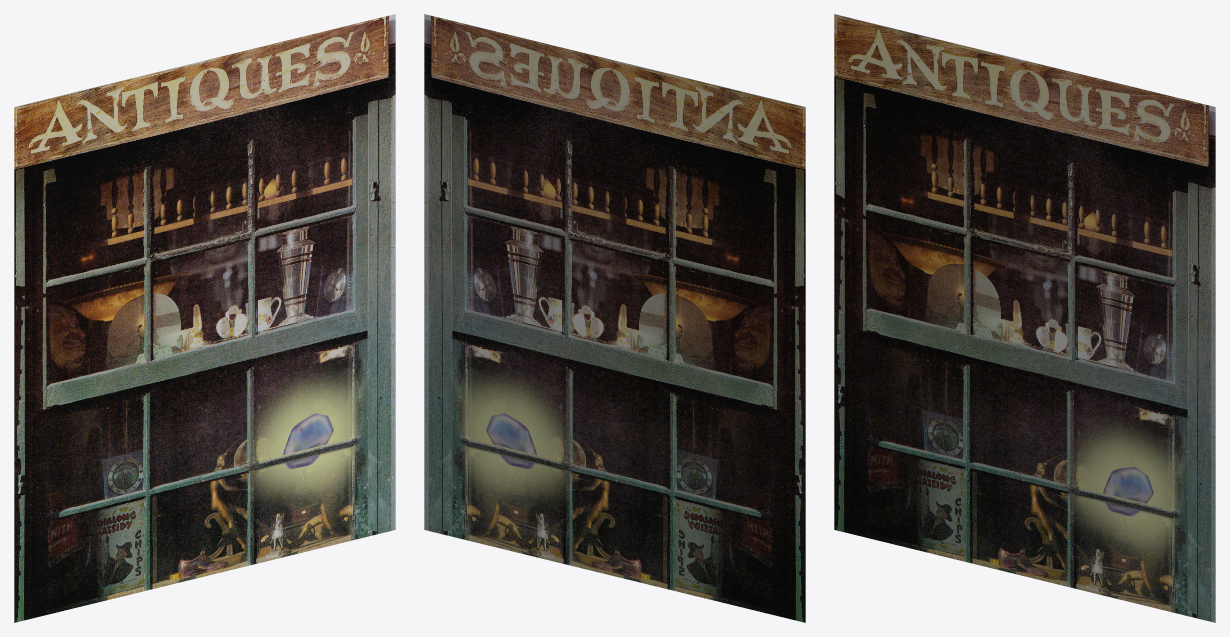
The model's file is antique.fbx.
The picture shows the model from 3 angles, left to right: view 1: azimuth 30°, elevation 25°; view 2: azimuth 150°, elevation 25°; view 3: azimuth 330°, elevation 25°; orthographic projection.
Visible parts, largest first — view 1: Plane001; view 2: Plane001; view 3: Plane001.
Part boxes in pixels (bbox=[...]): Plane001: bbox=[14, 14, 395, 622]; Plane001: bbox=[424, 14, 805, 622]; Plane001: bbox=[834, 14, 1215, 622].
Bounding box in the file's own units: 320 × 6.73e-05 × 413.
Materials: 1 (1 with a texture image).
